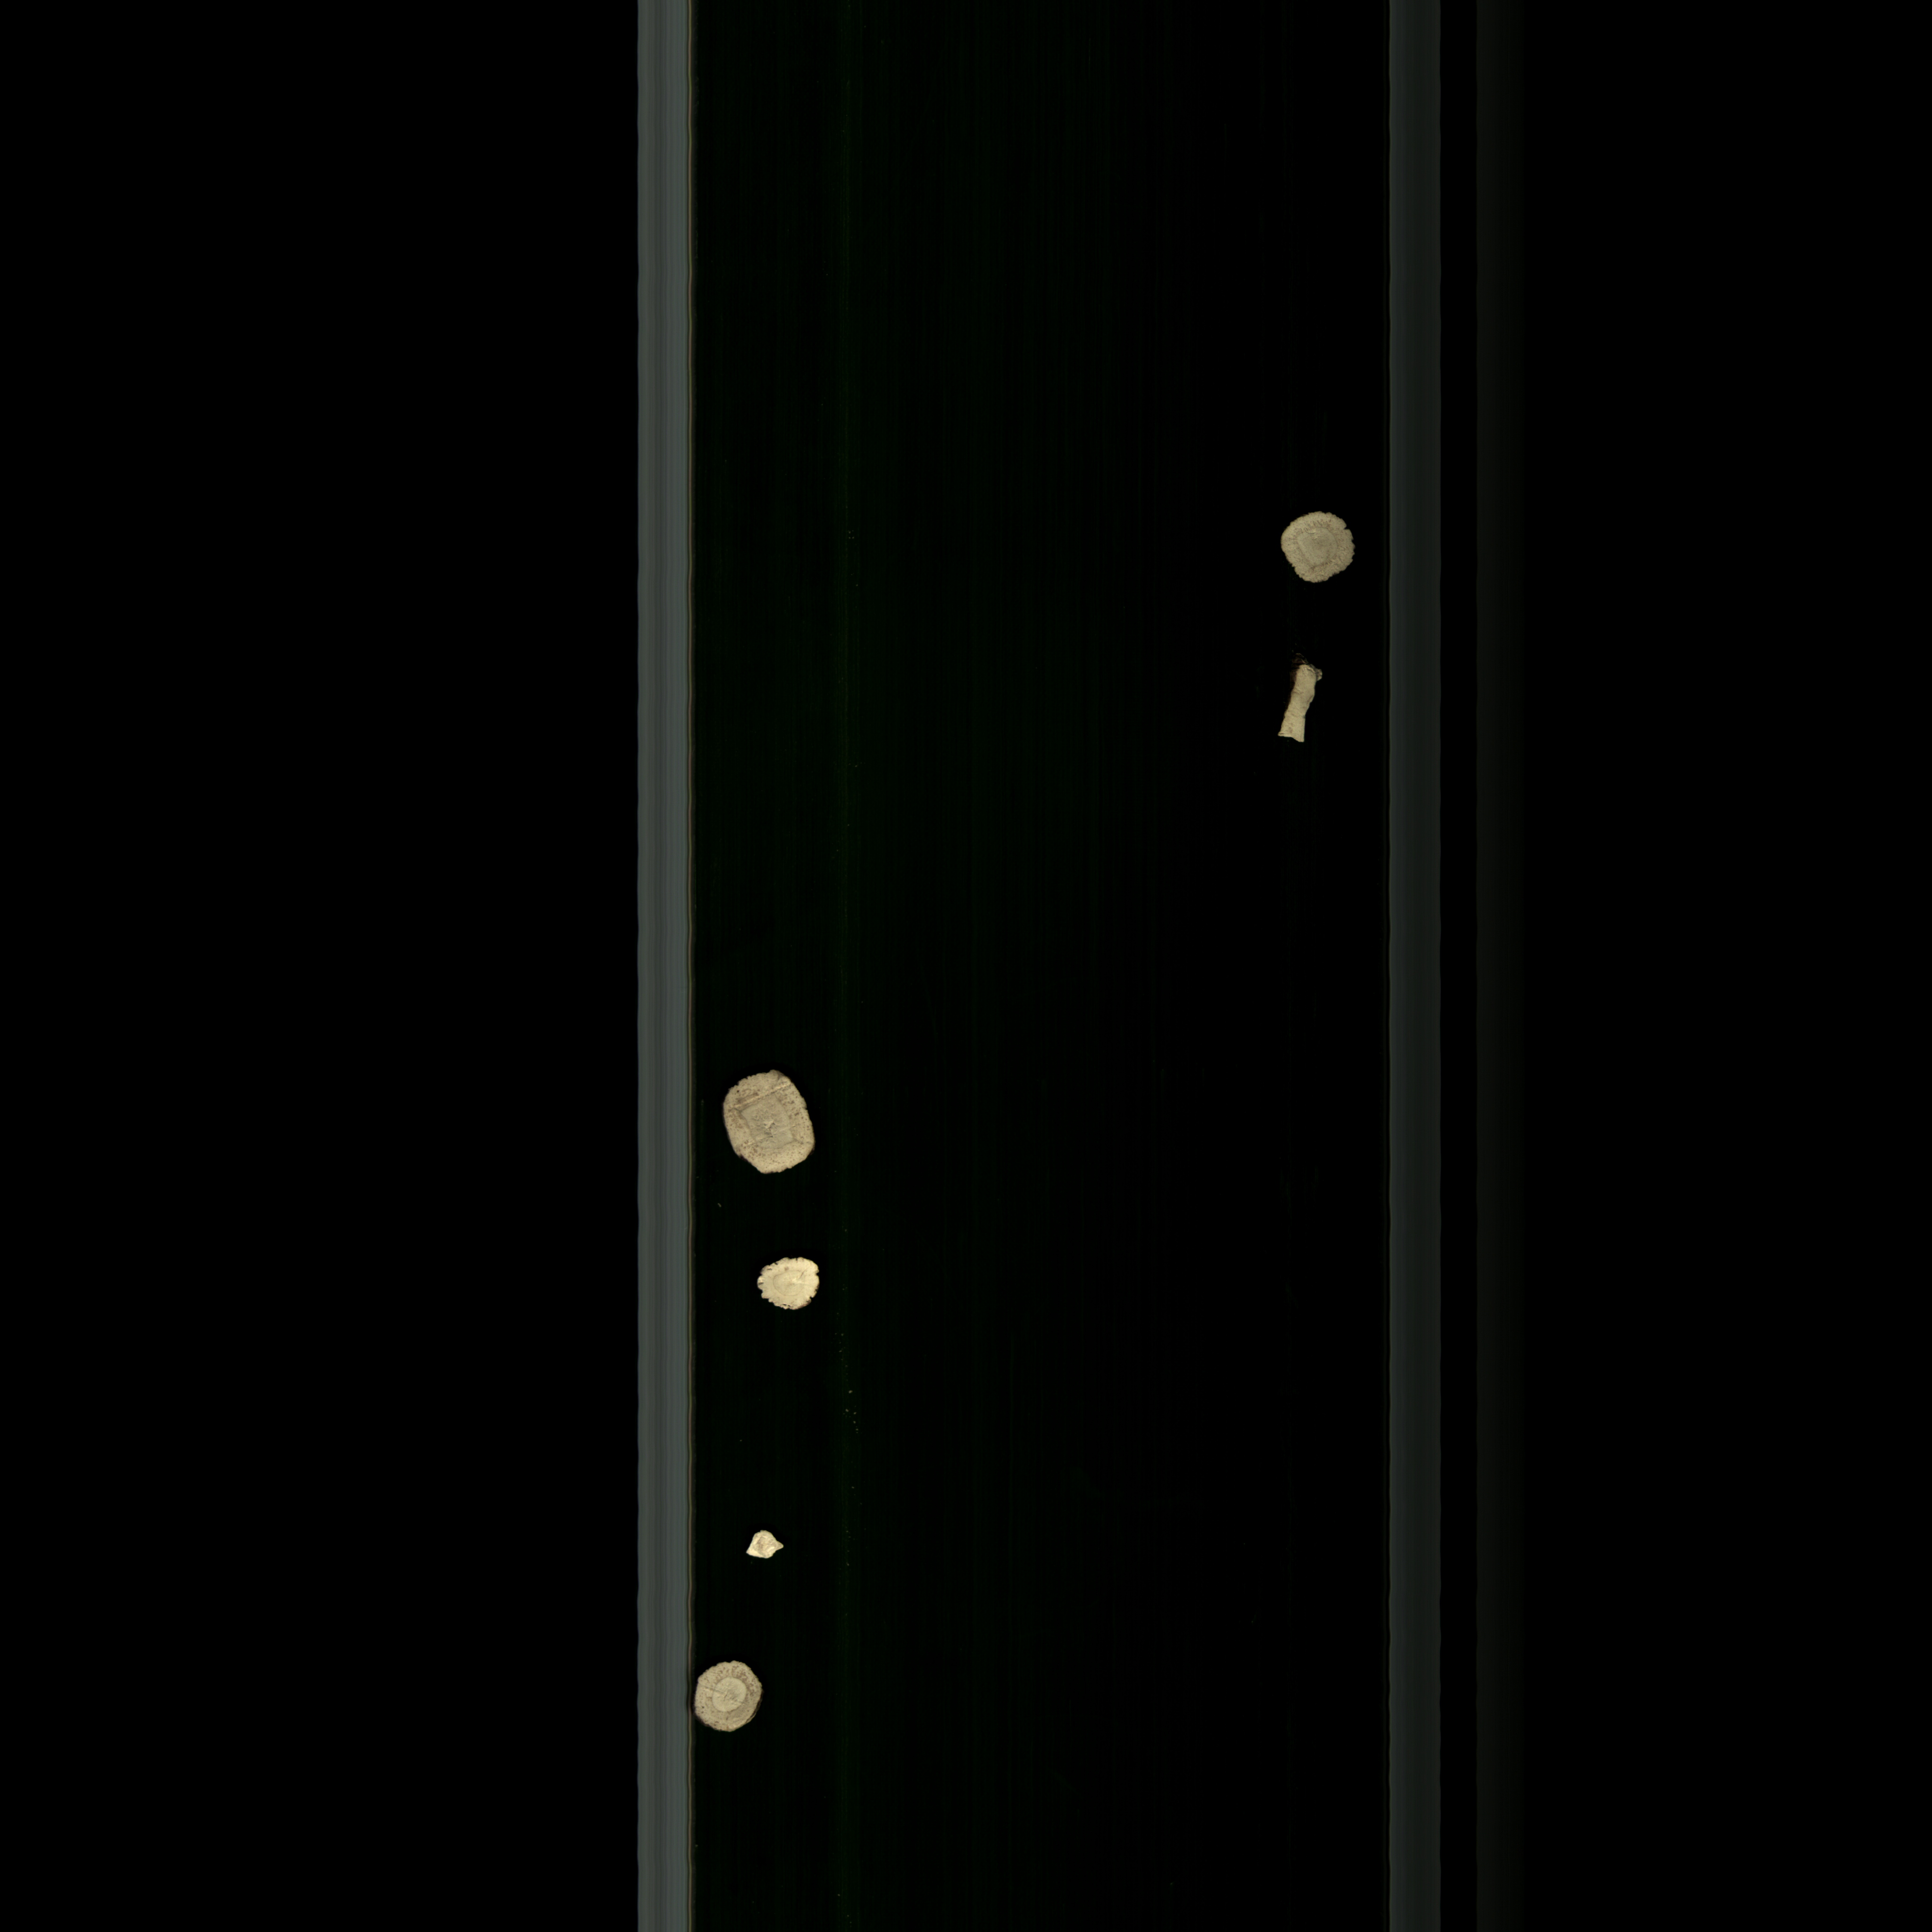debris: (1272, 655, 1338, 752)
distortion: (745, 1254, 833, 1318)
dreg: (738, 1523, 796, 1564)
